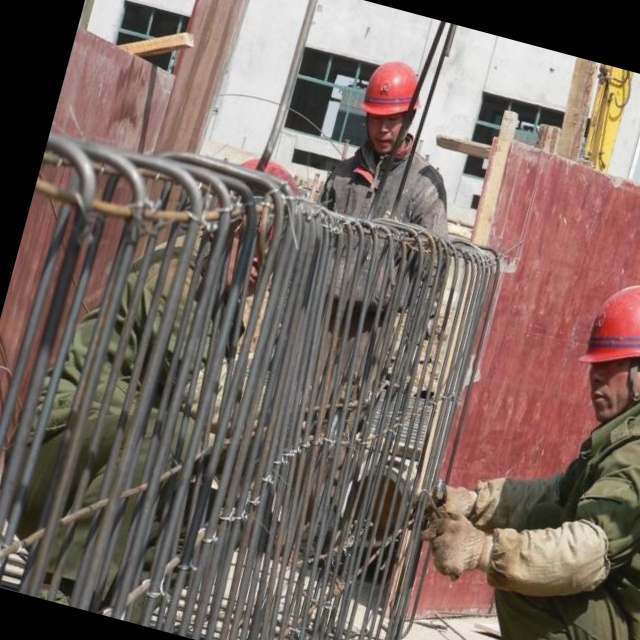Con_Casco: (566, 273, 640, 429), (350, 55, 427, 158)
